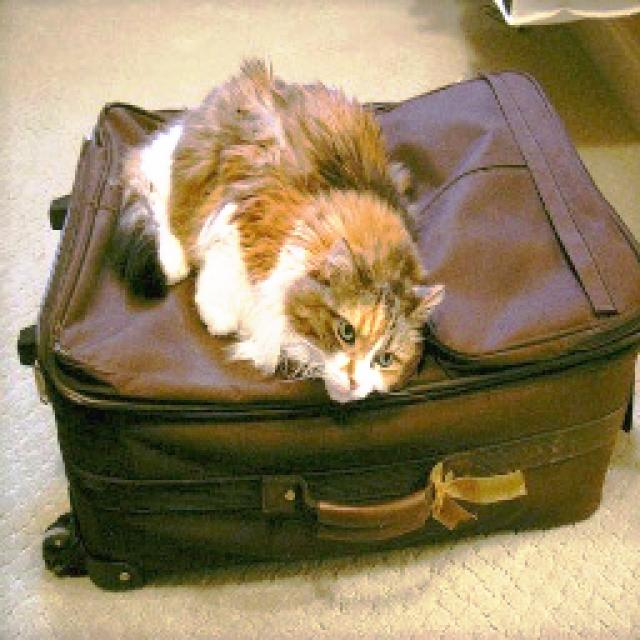cat: (110, 60, 451, 413)
